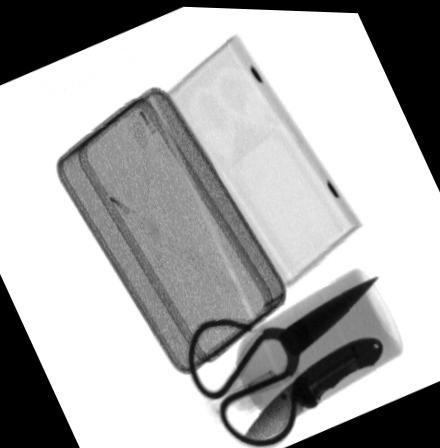Knife: (239, 330, 383, 443)
Scissors: (187, 270, 379, 444)
